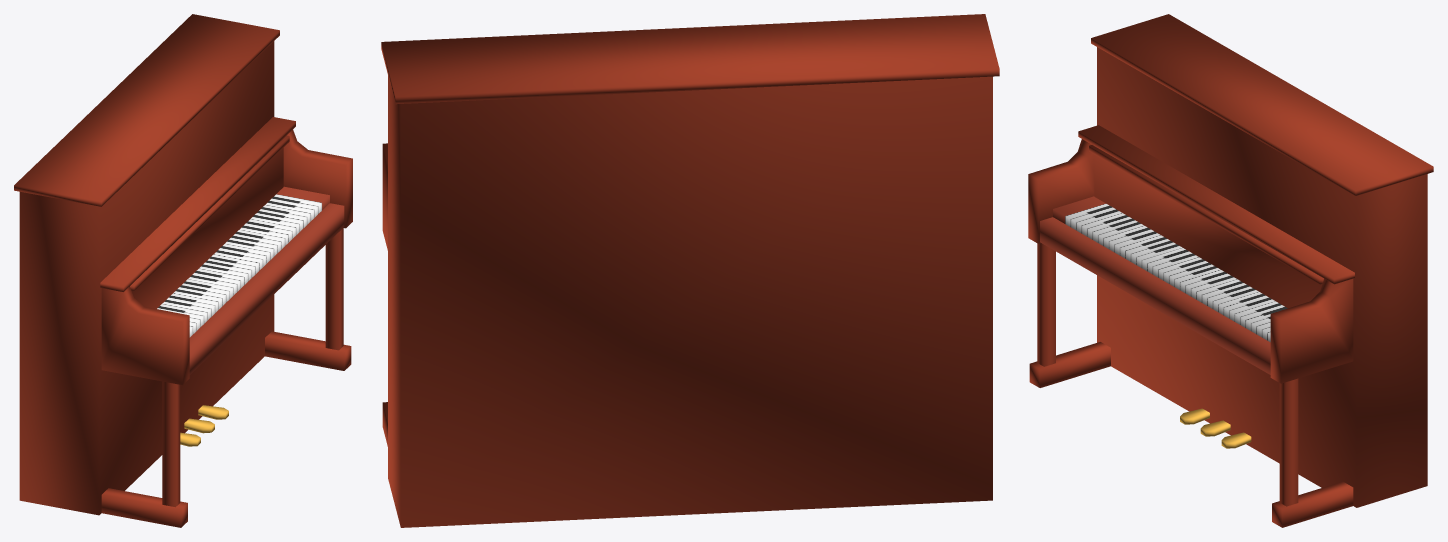
File: piano.glb
3 views of the same model, side by side, from view 1: azimuth 30°, elevation 25°; view 2: azimuth 150°, elevation 25°; view 3: azimuth 270°, elevation 25° (orthographic). The views are drawn at different scales.
Visible parts, largest first — view 1: Object_3, Object_4, Object_2; view 2: Object_3; view 3: Object_3, Object_4, Object_2.
Boxes of the visible parts, box(x1,y1,x2,y2) form: Object_3: box(14, 14, 352, 527); Object_4: box(157, 186, 344, 374); Object_2: box(180, 405, 228, 446); Object_3: box(381, 14, 999, 527); Object_3: box(1028, 14, 1433, 527); Object_4: box(1040, 196, 1287, 374); Object_2: box(1180, 408, 1251, 448).
Bounding box in the file's own units: 1.76 × 1.35 × 1.55.
3 materials, 1 textured.
